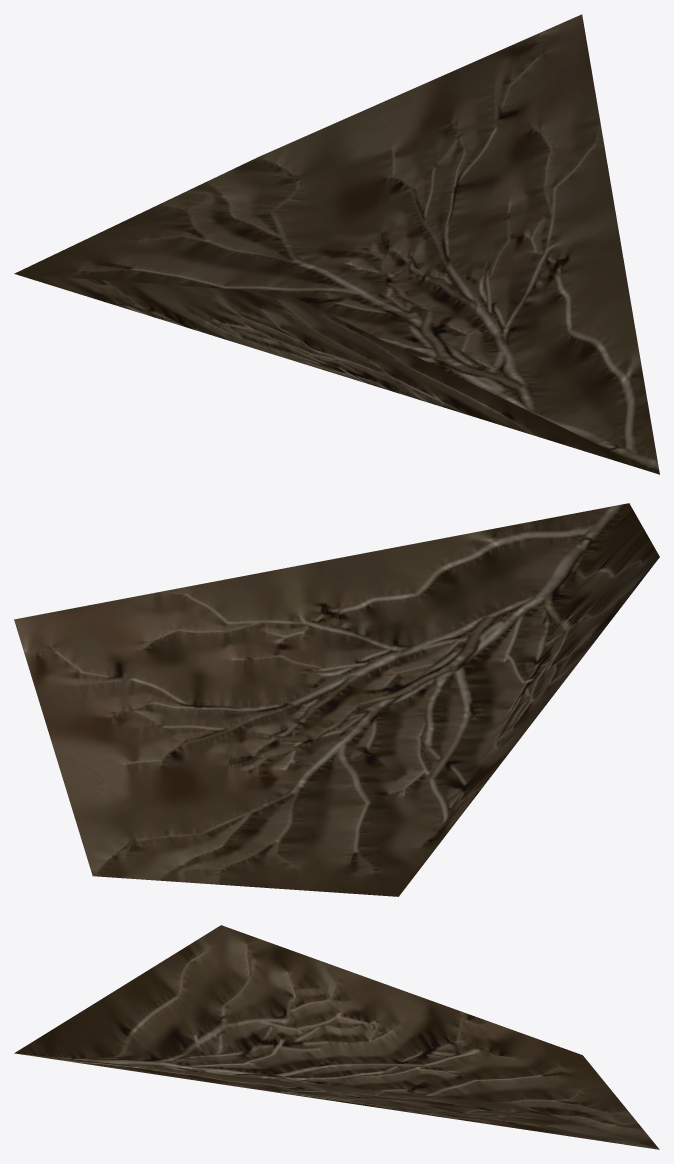
The model's file is MEP_DTree_P_01.fbx.
3 renders of one model, top to bottom at view 1: azimuth 30°, elevation 25°; view 2: azimuth 150°, elevation 25°; view 3: azimuth 270°, elevation 25°, orthographic. The views are drawn at different scales.
Parts seen in each view (by area): view 1: MEP_DTree_P_01; view 2: MEP_DTree_P_01; view 3: MEP_DTree_P_01.
Boxes of the visible parts, x1=… form: MEP_DTree_P_01: x1=14, y1=14, x2=659, y2=474; MEP_DTree_P_01: x1=14, y1=503, x2=659, y2=896; MEP_DTree_P_01: x1=14, y1=925, x2=659, y2=1149.
Size of the model in its own units: 1.65 by 0.6011 by 2.79.
